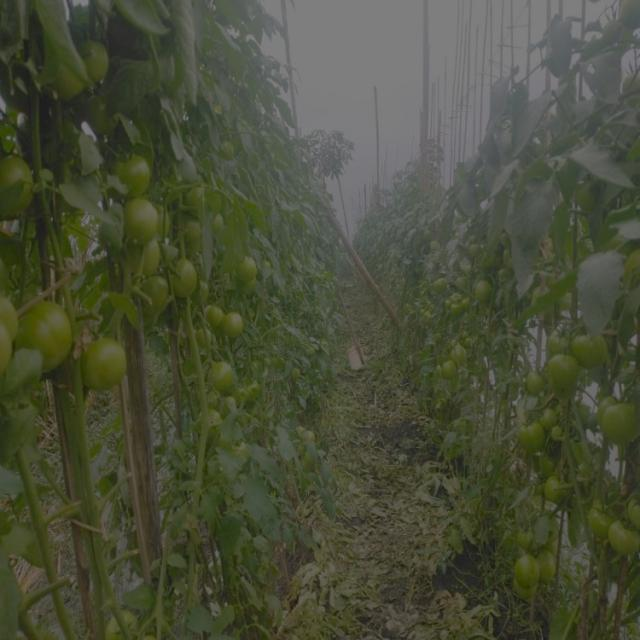tomato: (23, 305, 75, 373), (84, 335, 129, 392), (110, 145, 157, 197), (570, 327, 619, 368), (1, 156, 31, 215), (602, 401, 640, 447), (122, 197, 162, 239), (545, 357, 582, 393), (83, 39, 113, 81), (518, 417, 551, 455), (56, 66, 89, 102), (578, 177, 608, 216), (171, 260, 201, 297), (610, 521, 640, 556), (236, 254, 263, 292), (207, 359, 239, 391), (290, 423, 315, 463), (2, 295, 22, 338), (226, 310, 248, 345), (544, 471, 569, 501), (139, 242, 161, 275), (588, 502, 610, 531), (498, 230, 517, 263), (525, 366, 545, 397), (204, 299, 224, 328), (203, 408, 227, 432), (477, 277, 496, 306), (625, 490, 640, 525), (2, 338, 17, 372), (549, 323, 569, 347), (558, 288, 574, 316), (540, 403, 559, 426), (518, 554, 535, 579), (541, 551, 557, 577), (438, 359, 457, 378), (453, 339, 472, 358), (435, 275, 450, 288)
